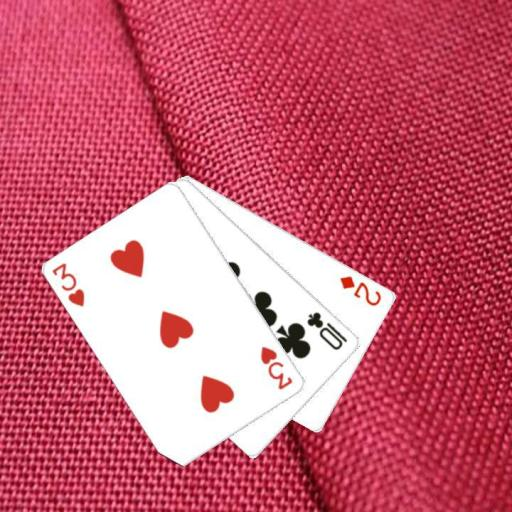10C: (304, 308, 349, 352)
2D: (337, 272, 383, 308)
3H: (49, 260, 87, 309), (258, 343, 295, 392)
